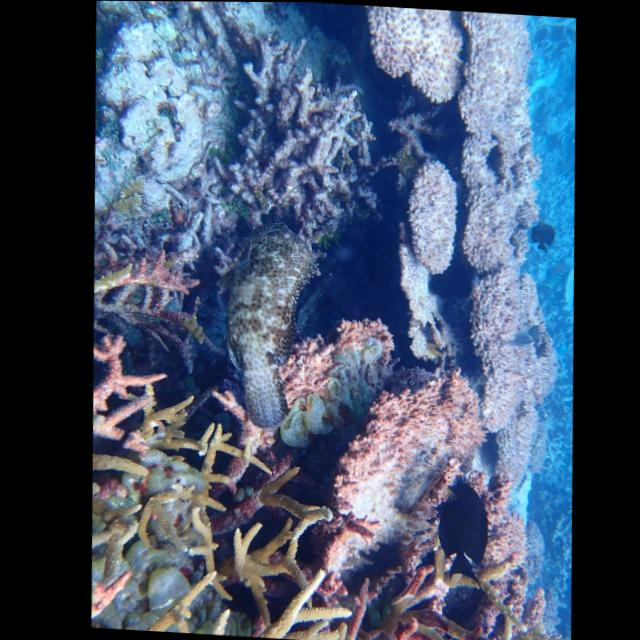Groupers: (216, 220, 331, 430)
